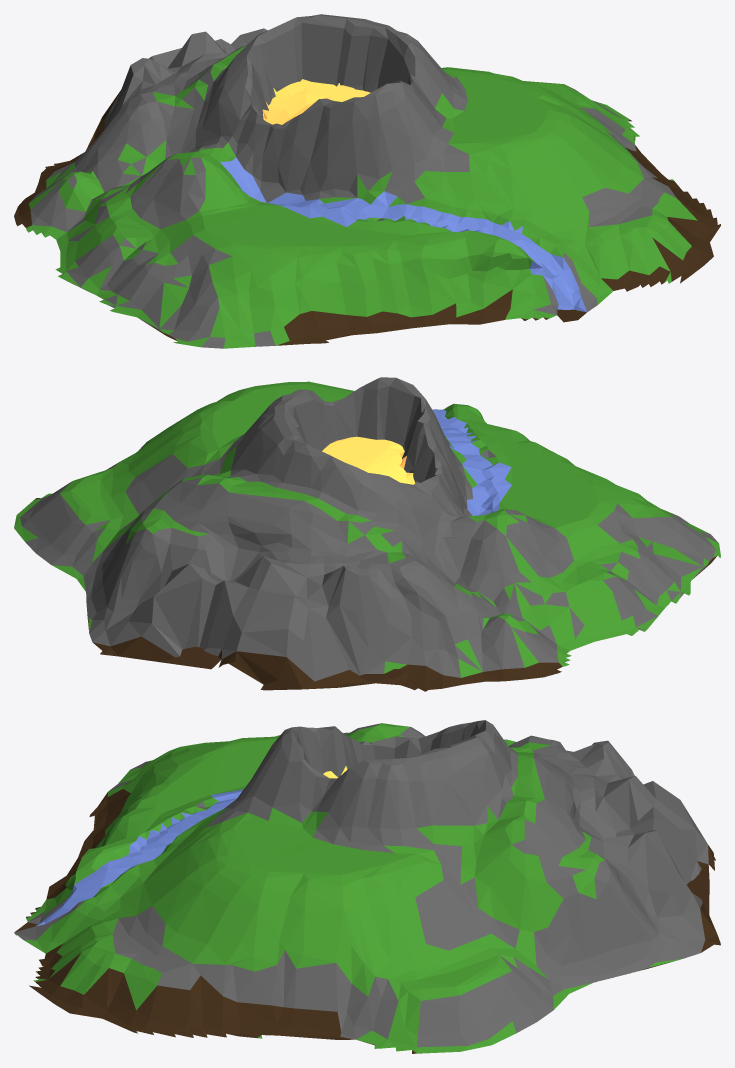
File: Island1.glb
3 renders of one model, top to bottom at view 1: azimuth 30°, elevation 25°; view 2: azimuth 150°, elevation 25°; view 3: azimuth 270°, elevation 25°, orthographic. The views are drawn at different scales.
Visible parts, largest first — view 1: Volcanic; view 2: Volcanic; view 3: Volcanic.
Boxes of the visible parts, box(x1,y1,x2,y2) form: Volcanic: box(14, 14, 720, 348); Volcanic: box(14, 377, 720, 691); Volcanic: box(14, 720, 720, 1053).
Bounding box in the file's own units: 8.37 × 2.19 × 8.06.
